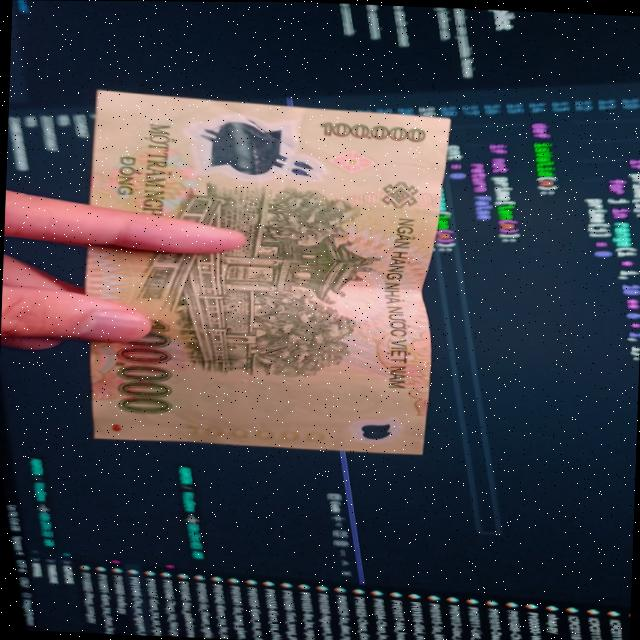100 000 VND: (74, 84, 455, 459)
